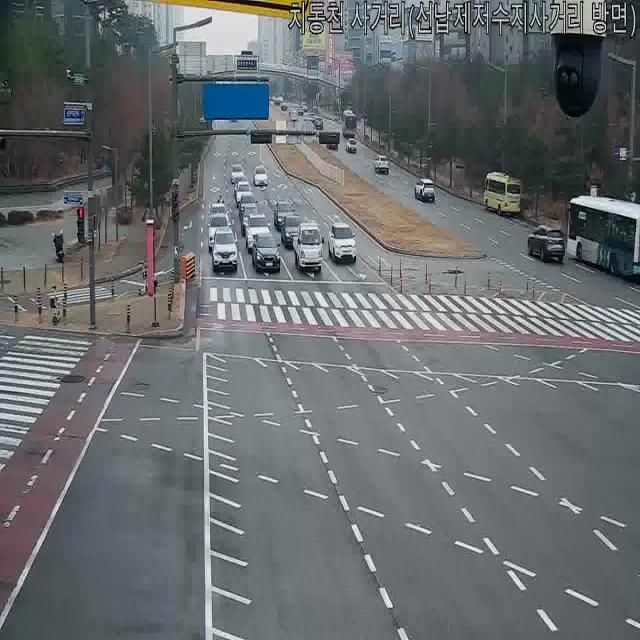Bus: (565, 194, 640, 282), (482, 172, 524, 216), (341, 108, 357, 139)
Car: (482, 172, 524, 216), (526, 224, 566, 264), (210, 228, 238, 274), (251, 233, 281, 274), (328, 221, 356, 264), (244, 213, 271, 252), (207, 214, 232, 251), (281, 214, 305, 249), (239, 207, 263, 236), (274, 200, 296, 231), (208, 201, 230, 231), (414, 178, 436, 202), (239, 193, 258, 220), (235, 181, 252, 207), (253, 165, 268, 188), (374, 154, 390, 174), (230, 163, 244, 185), (235, 174, 249, 193), (346, 138, 358, 154), (324, 134, 336, 150), (312, 117, 324, 130), (272, 95, 284, 108), (288, 110, 298, 123), (296, 105, 305, 116)
Motorcycle: (213, 190, 225, 214)
Truck: (294, 221, 324, 273)
